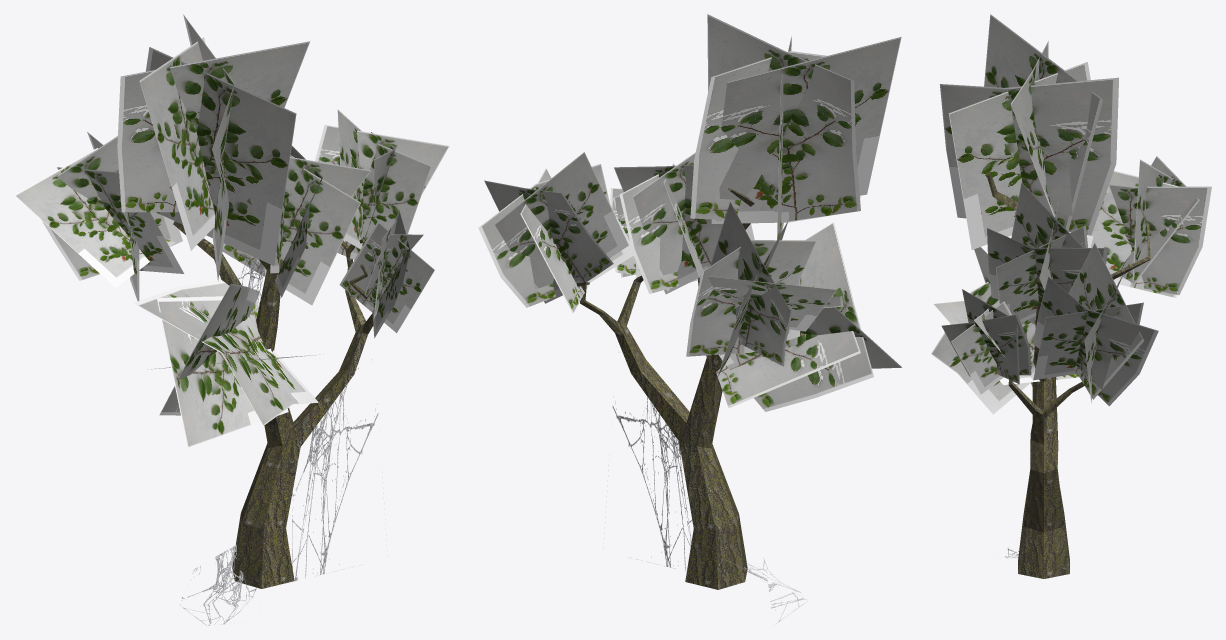
File: treeCobweb.glb
The picture shows the model from 3 angles, left to right: view 1: azimuth 30°, elevation 25°; view 2: azimuth 150°, elevation 25°; view 3: azimuth 270°, elevation 25°; orthographic projection. The views are drawn at different scales.
Parts seen in each view (by area): view 1: Tree, Plane.005, Plane.004, Plane.030, Plane.031, Plane.007, Plane.027, Plane.009, Plane.013, Plane.017, Plane.025, Plane.024 (+12 smaller); view 2: Plane.004, Tree, Plane.007, Plane.028, Plane.019, Plane.026, Plane.006, Plane.024, Plane.033, Plane.016, Plane.011, Plane.018 (+9 smaller); view 3: Plane.006, Tree, Plane.005, Plane.026, Plane.018, Plane.007, Plane.010, Plane.019, Plane.017, Plane.025, Plane.009, Plane.030 (+9 smaller).
Part boxes in pixels (x1,y1,x2,y2): Tree: [169, 186, 373, 588]; Plane.005: [146, 47, 296, 265]; Plane.004: [117, 41, 309, 212]; Plane.030: [133, 279, 318, 425]; Plane.031: [157, 296, 288, 447]; Plane.007: [139, 37, 215, 250]; Plane.027: [14, 148, 175, 287]; Plane.009: [222, 168, 360, 305]; Plane.013: [339, 221, 434, 332]; Plane.017: [337, 144, 431, 259]; Plane.025: [57, 167, 184, 273]; Plane.024: [42, 136, 182, 280]; Plane.004: [707, 14, 860, 223]; Tree: [577, 188, 754, 589]; Plane.007: [708, 37, 901, 221]; Plane.028: [691, 222, 873, 411]; Plane.019: [494, 152, 628, 301]; Plane.026: [686, 240, 816, 356]; Plane.006: [690, 51, 860, 222]; Plane.024: [710, 201, 792, 366]; Plane.033: [716, 331, 860, 407]; Plane.016: [484, 180, 613, 303]; Plane.011: [633, 152, 754, 291]; Plane.018: [478, 164, 633, 307]; Plane.006: [939, 77, 1118, 235]; Tree: [987, 173, 1150, 578]; Plane.005: [948, 62, 1109, 249]; Plane.026: [1109, 184, 1211, 295]; Plane.018: [1032, 276, 1158, 406]; Plane.007: [984, 14, 1102, 231]; Plane.010: [987, 228, 1107, 302]; Plane.019: [1068, 243, 1143, 399]; Plane.017: [1033, 302, 1143, 380]; Plane.025: [1087, 170, 1179, 297]; Plane.009: [996, 225, 1087, 322]; Plane.030: [931, 282, 1035, 414].
Bounding box in the file's own units: 15.42 × 21.57 × 10.83.
Materials: 5 (5 with a texture image).
